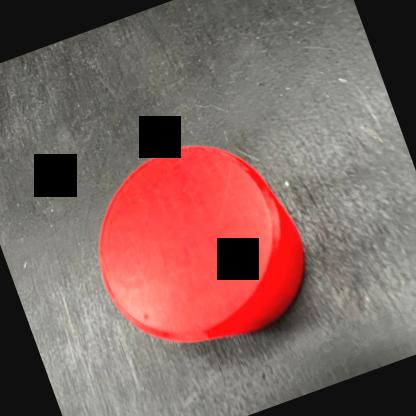red cylinder: (66, 113, 328, 378)
